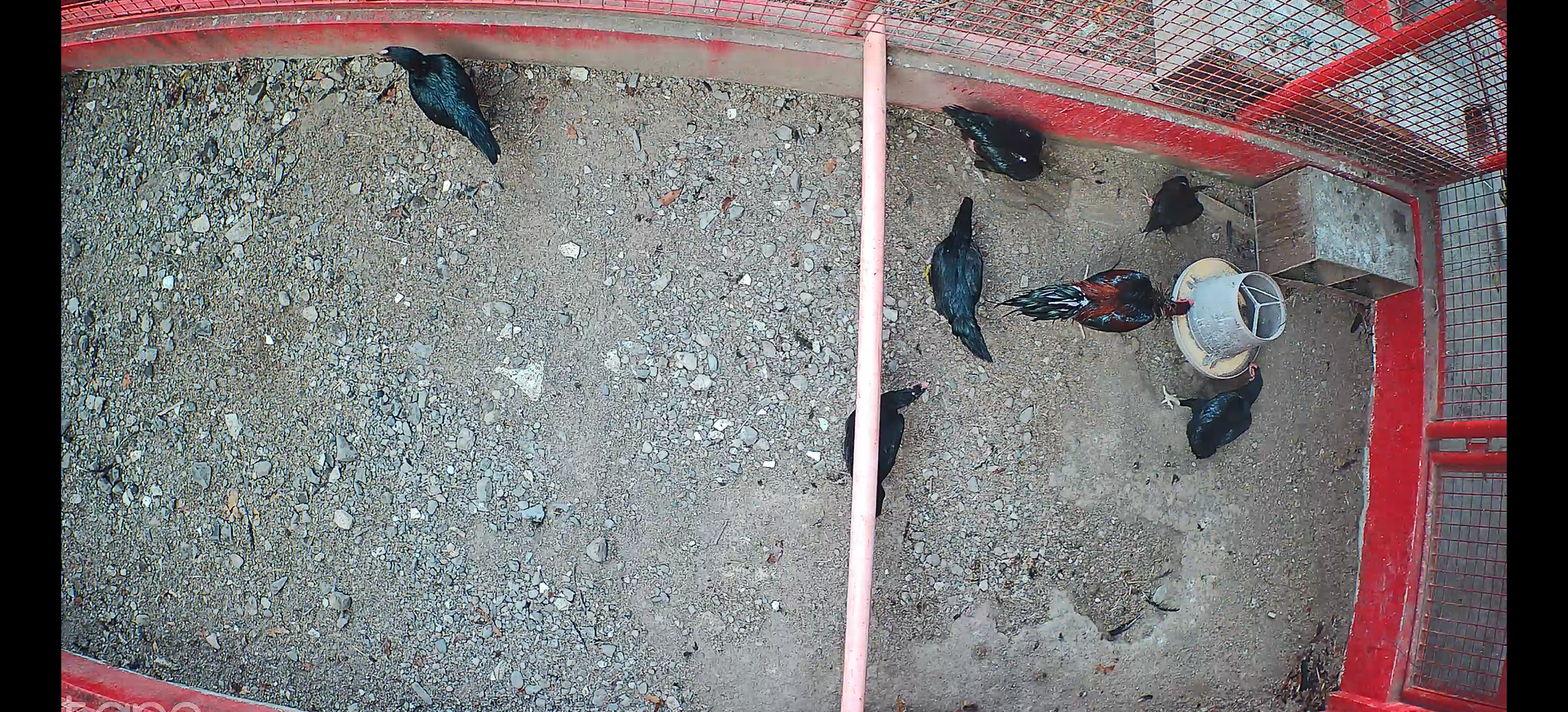Chicken: (372, 44, 502, 167), (842, 378, 931, 524), (925, 193, 993, 364), (1158, 360, 1262, 461), (940, 102, 1046, 185), (1137, 168, 1205, 237)
Feeder: (1170, 256, 1287, 383)
Rooster: (986, 265, 1194, 341)
